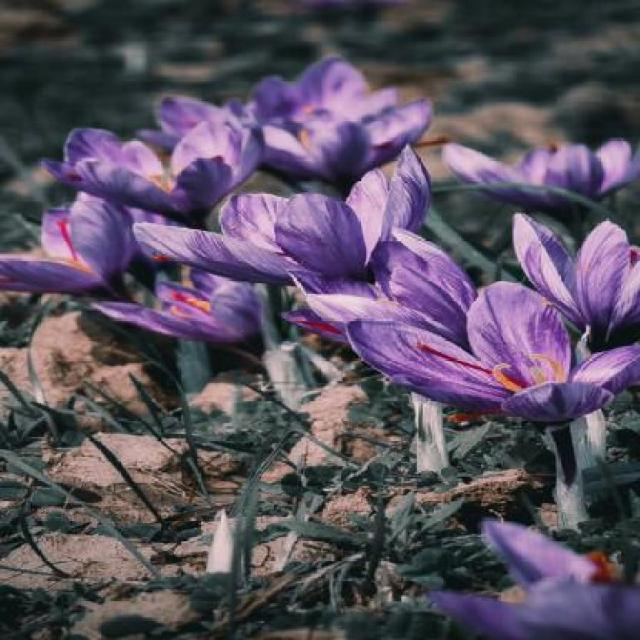Flower: (351, 288, 638, 440), (61, 104, 254, 214), (81, 257, 302, 349), (268, 83, 447, 188), (0, 196, 165, 306), (456, 133, 638, 230)
stigma: (410, 325, 568, 395), (158, 280, 214, 312), (48, 211, 81, 262)
